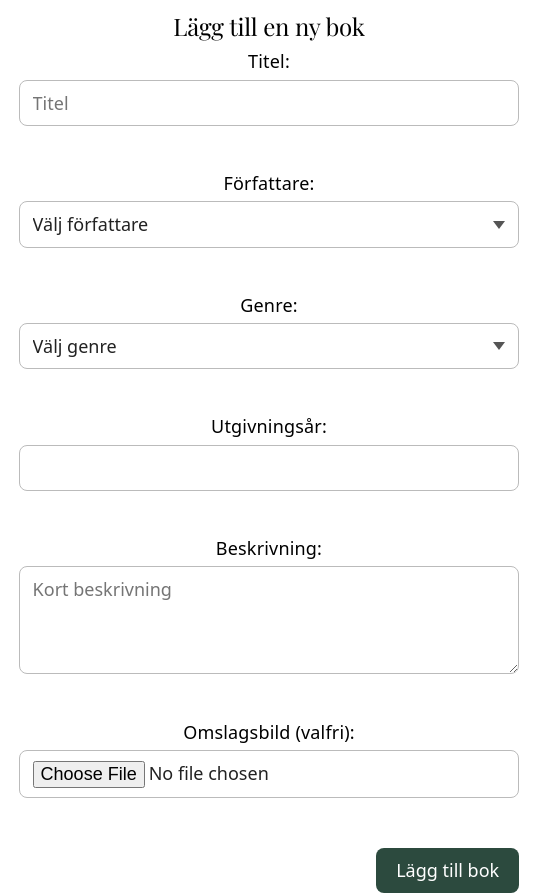
Test: CreateBook › visar fält för ny författare
Select "Lägg till ny författare..." in the dropdown labelled "Författare:". click: (269, 225)
box: [19,202,519,248]
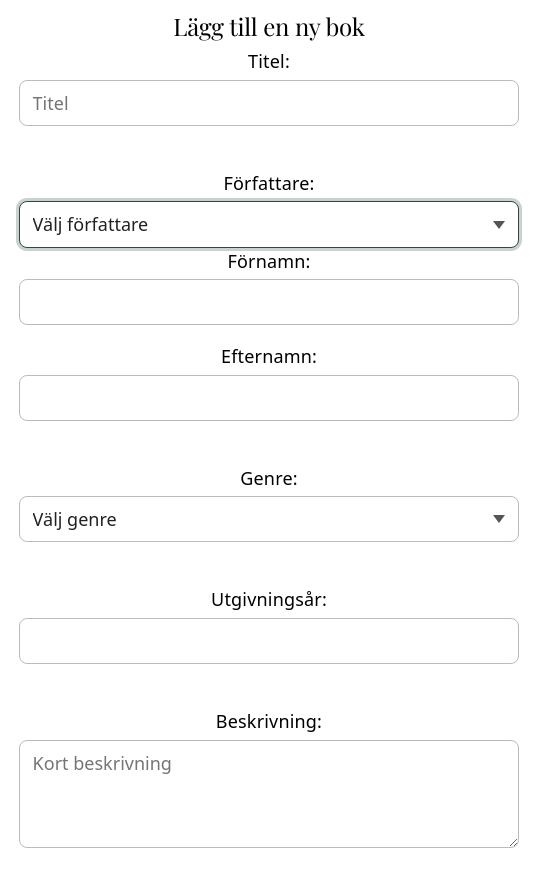
Expected: the field labelled "Förnamn:" is shown, [19,279,519,325]
